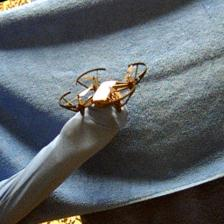drone: (58, 60, 148, 116)
